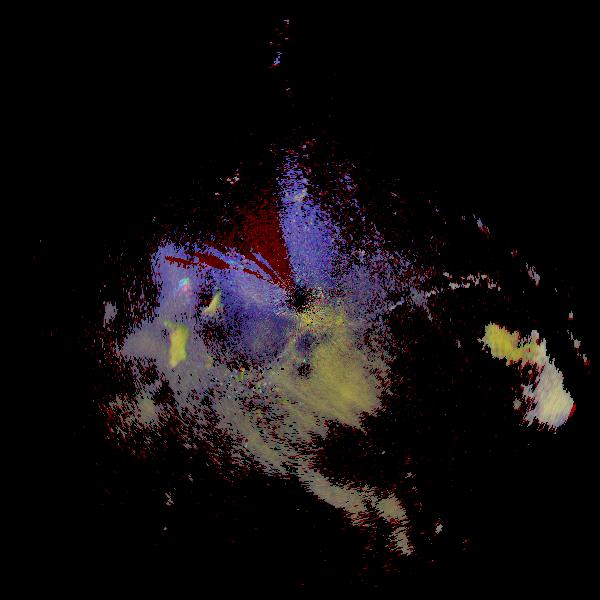roost: (110, 306, 206, 402)
